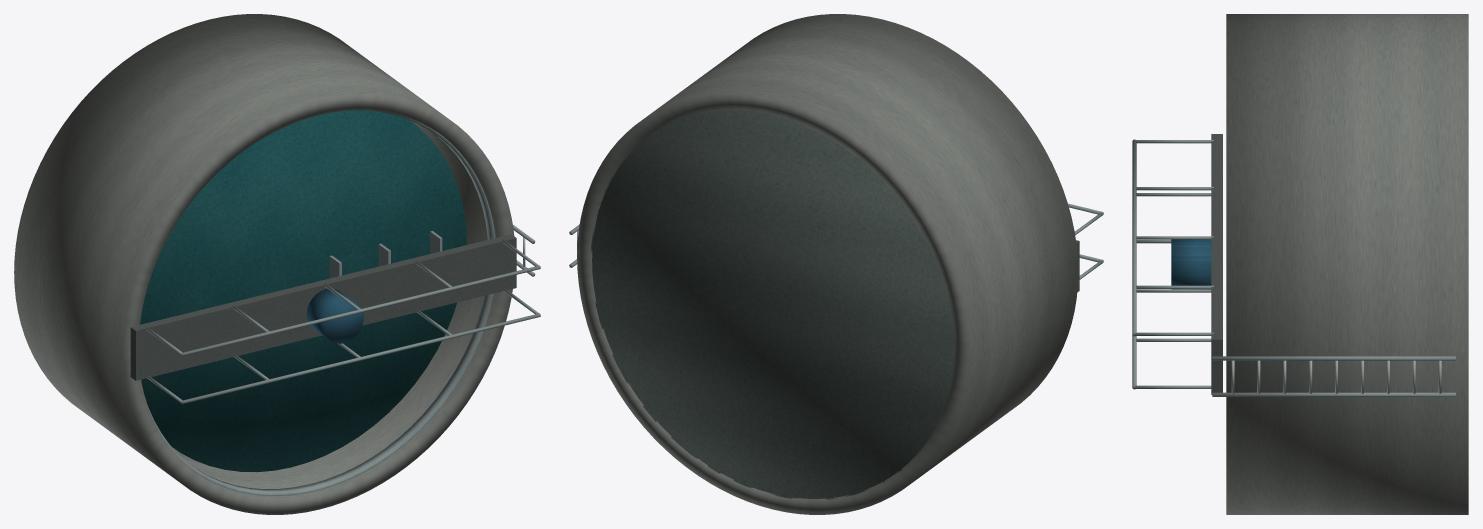
Rendered from PZ_WWT_07_Primary_Clarifier_Tank_6m.glb.
3 views of the same model, side by side, from view 1: azimuth 30°, elevation 25°; view 2: azimuth 150°, elevation 25°; view 3: azimuth 270°, elevation 25° (orthographic). The views are drawn at different scales.
Visible parts, largest first — view 1: CLAR_Concrete_Circular_Wall, CLAR_Liquid_Surface, CLAR_Service_Catwalk, CLAR_Weir_InnerRing, CLAR_Central_Motor_Housing, CLAR_Handrail_-1, CLAR_Handrail_1; view 2: CLAR_Concrete_Floor, CLAR_Concrete_Circular_Wall; view 3: CLAR_Concrete_Circular_Wall, CLAR_Service_Catwalk, CLAR_Central_Motor_Housing, CLAR_Exterior_Ladder_Rail_+1, CLAR_Exterior_Ladder_Rail_-1, CLAR_Handrail_1.
Part boxes in pixels (<box>): CLAR_Concrete_Circular_Wall: <box>14,14,514,514</box>; CLAR_Liquid_Surface: <box>140,110,466,472</box>; CLAR_Service_Catwalk: <box>130,234,516,380</box>; CLAR_Weir_InnerRing: <box>145,110,495,495</box>; CLAR_Central_Motor_Housing: <box>306,289,363,343</box>; CLAR_Handrail_-1: <box>181,313,540,404</box>; CLAR_Handrail_1: <box>182,265,540,356</box>; CLAR_Concrete_Floor: <box>591,109,955,499</box>; CLAR_Concrete_Circular_Wall: <box>577,14,1078,514</box>; CLAR_Concrete_Circular_Wall: <box>1226,14,1468,514</box>; CLAR_Service_Catwalk: <box>1211,134,1222,394</box>; CLAR_Central_Motor_Housing: <box>1171,239,1211,289</box>; CLAR_Exterior_Ladder_Rail_+1: <box>1212,356,1455,360</box>; CLAR_Exterior_Ladder_Rail_-1: <box>1212,392,1455,396</box>; CLAR_Handrail_1: <box>1132,139,1136,336</box>.
Size of the model in its own units: 6.21 by 6 by 4.03.
1 material, 1 textured.
